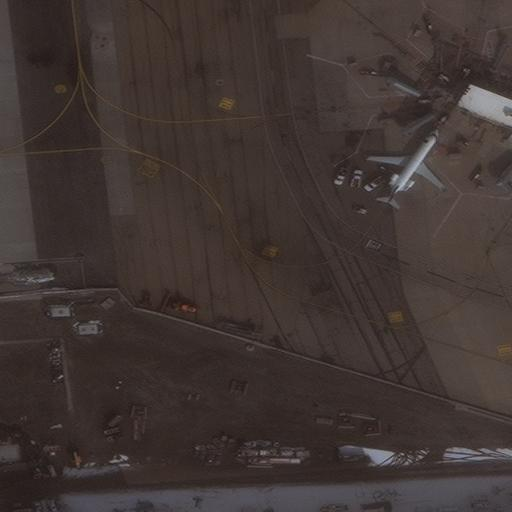Medium Civil Transport: (368, 127, 446, 204)
